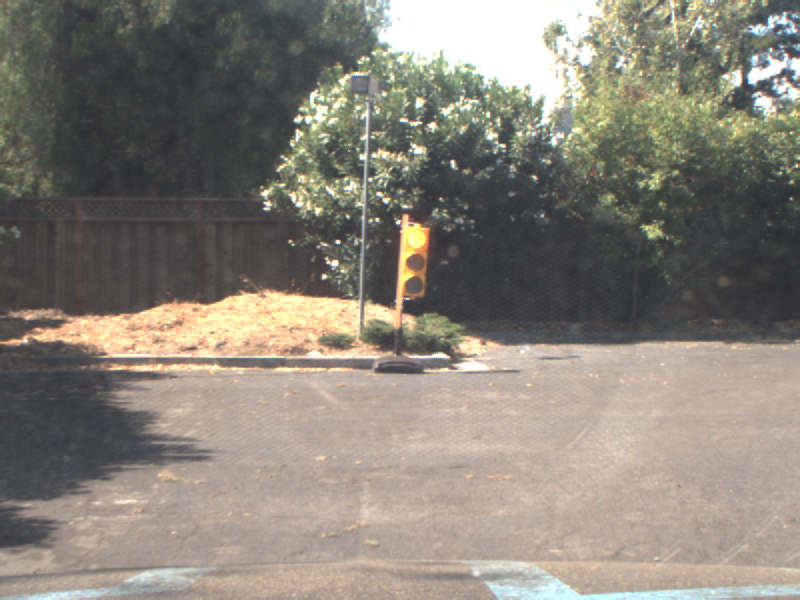red: (400, 216, 427, 300)
